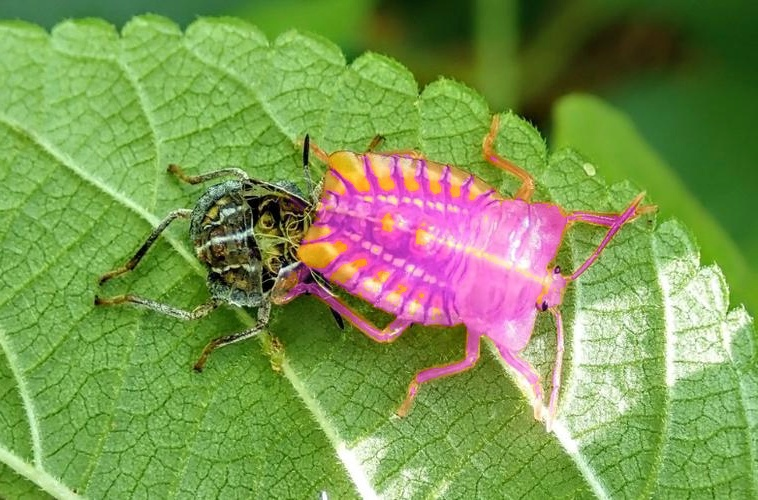Stink_Bug: (291, 144, 591, 317), (133, 160, 314, 332)
